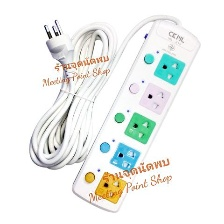three_eye_plug: (69, 14, 203, 214)
